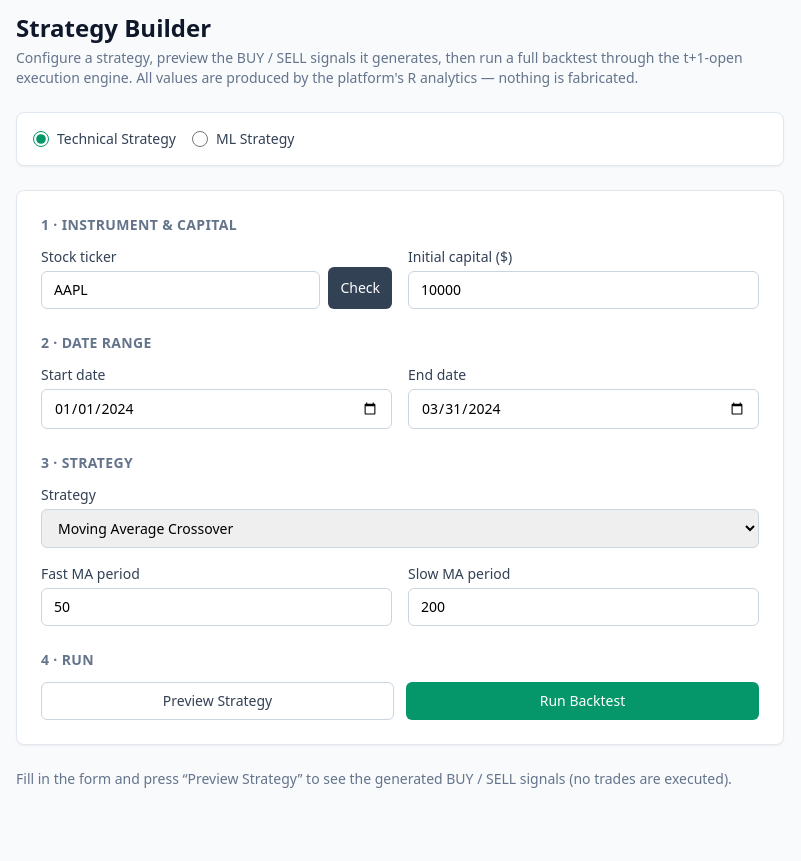
Test: StrategyBuilderPage (Phase 4) › rejects a malformed ticker format
Type "bad!ticker" into the field labelled "Stock ticker" at (181, 290), box left=41, top=271, right=320, bottom=309
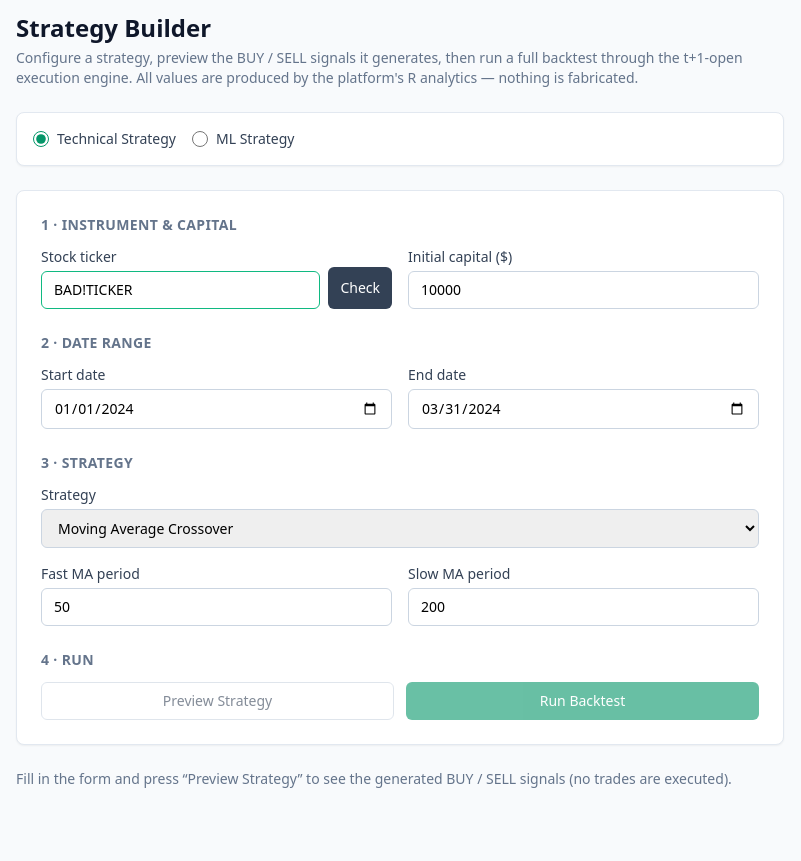
Press Tab
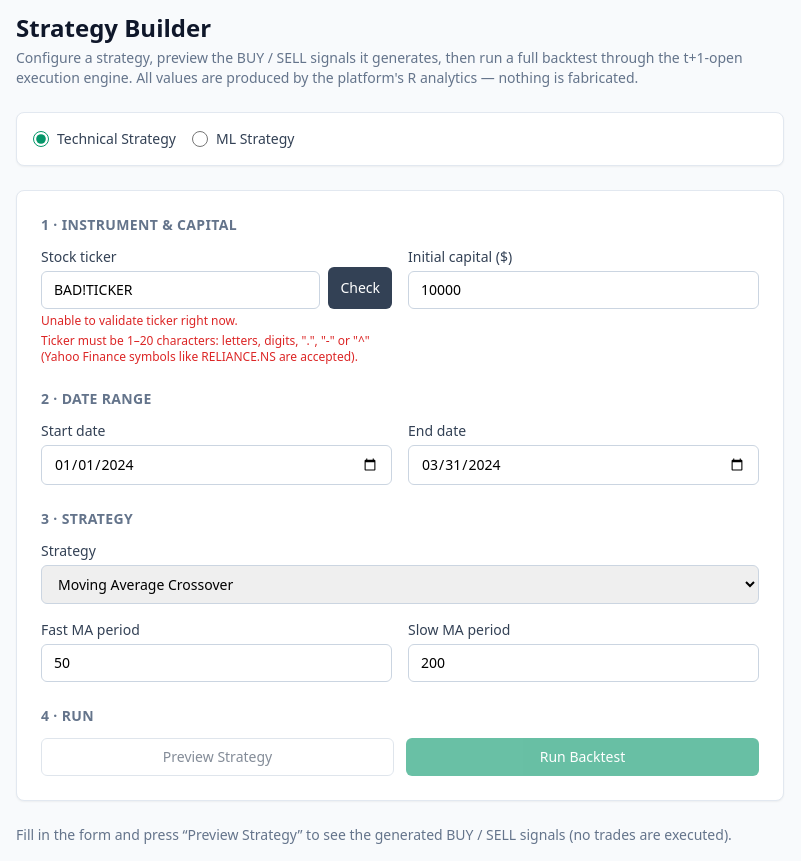
expect the text with test id "error-ticker" shows "1–20 characters": met, box left=41, top=332, right=370, bottom=365
